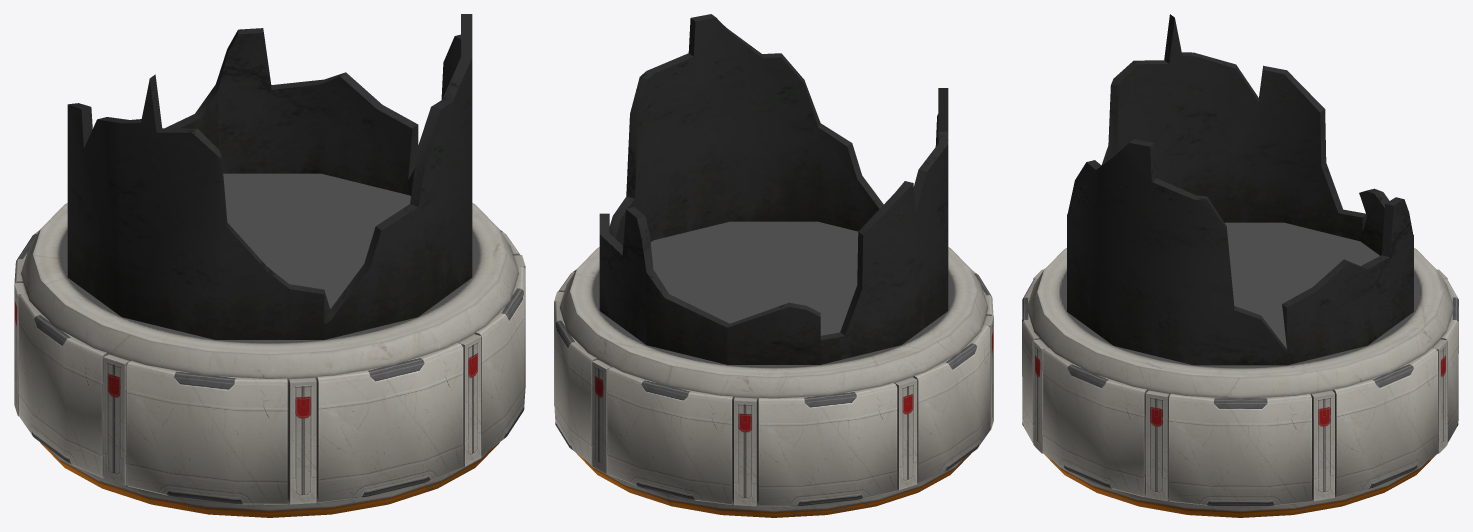
Rendered from structure_gel_sample_empty_smashed_02.dae.
3 views of the same model, side by side, from view 1: azimuth 30°, elevation 25°; view 2: azimuth 150°, elevation 25°; view 3: azimuth 270°, elevation 25° (orthographic). The views are drawn at different scales.
Parts seen in each view (by area): view 1: case2, glass2; view 2: case2, glass2; view 3: case2, glass2.
Boxes of the visible parts, x1=… form: case2: x1=14, y1=173, x2=525, y2=517; glass2: x1=67, y1=14, x2=472, y2=339; case2: x1=554, y1=221, x2=993, y2=517; glass2: x1=599, y1=14, x2=948, y2=364; case2: x1=1022, y1=222, x2=1458, y2=517; glass2: x1=1067, y1=14, x2=1413, y2=365.
Bounding box in the file's own units: 0.2481 × 0.2197 × 0.2481.
